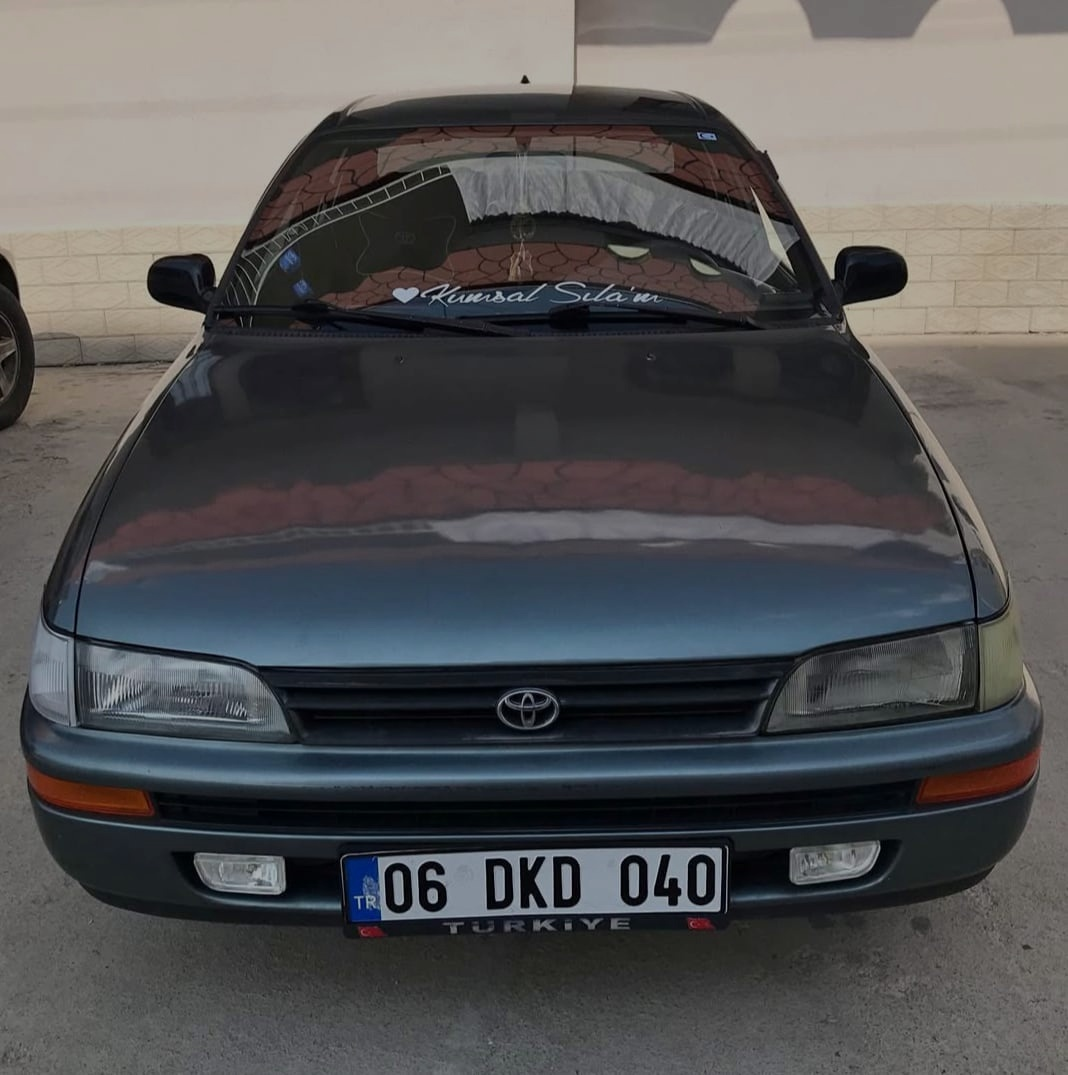plaka: (370, 825, 734, 921)
